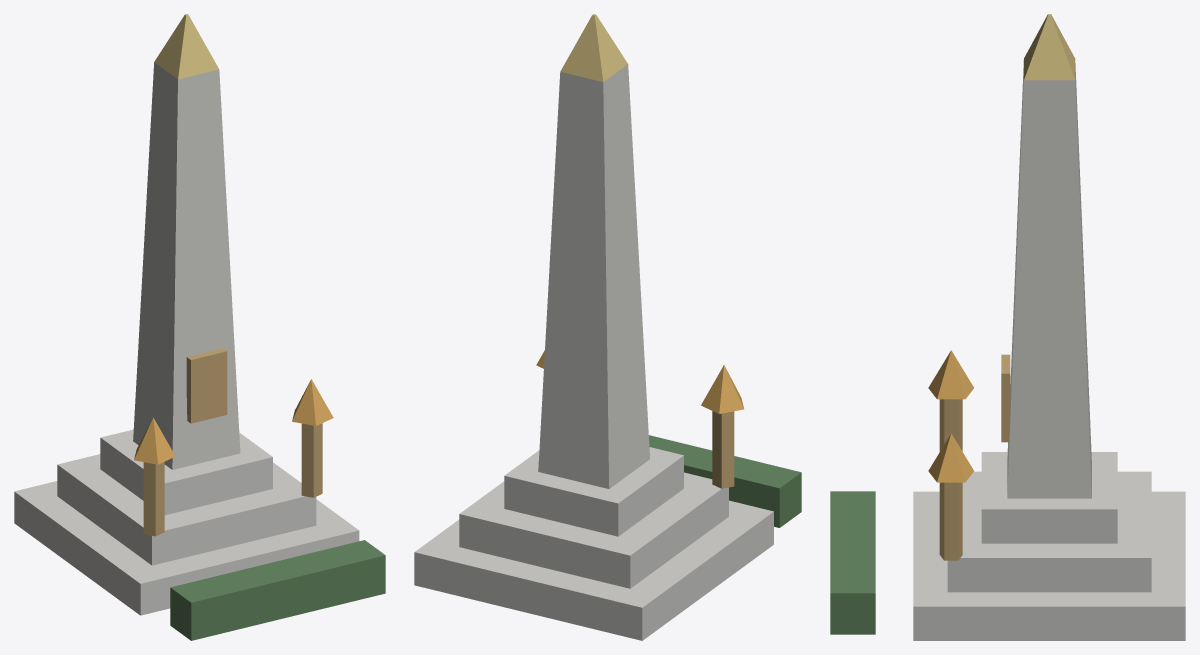
The model's file is monument.glb.
3 views of the same model, side by side, from view 1: azimuth 30°, elevation 25°; view 2: azimuth 150°, elevation 25°; view 3: azimuth 270°, elevation 25° (orthographic). The views are drawn at different scales.
Parts seen in each view (by area): view 1: LOD0; view 2: LOD0; view 3: LOD0.
Part boxes in pixels (box(x1,y1,x2,y2)): LOD0: box(14, 14, 385, 640); LOD0: box(414, 14, 801, 640); LOD0: box(830, 14, 1185, 640).
Size of what is drawn, in the model's own units: 0.18 by 0.415 by 0.235.
